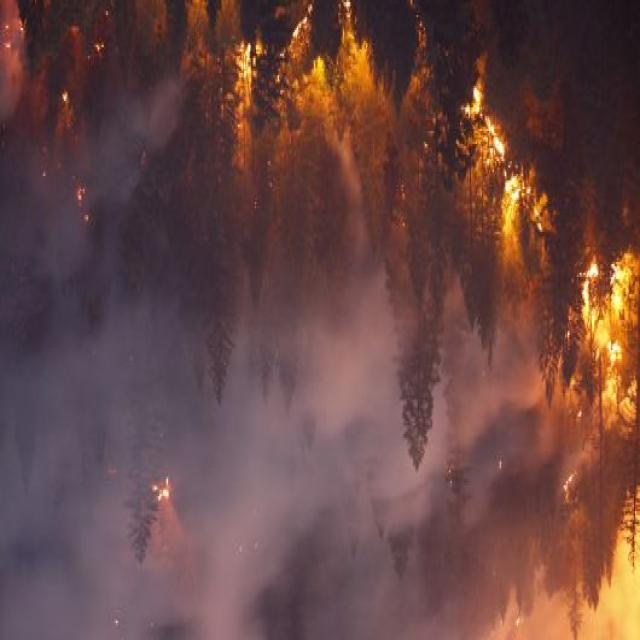fire: (0, 0, 467, 264), (474, 16, 640, 611), (151, 456, 183, 536)
